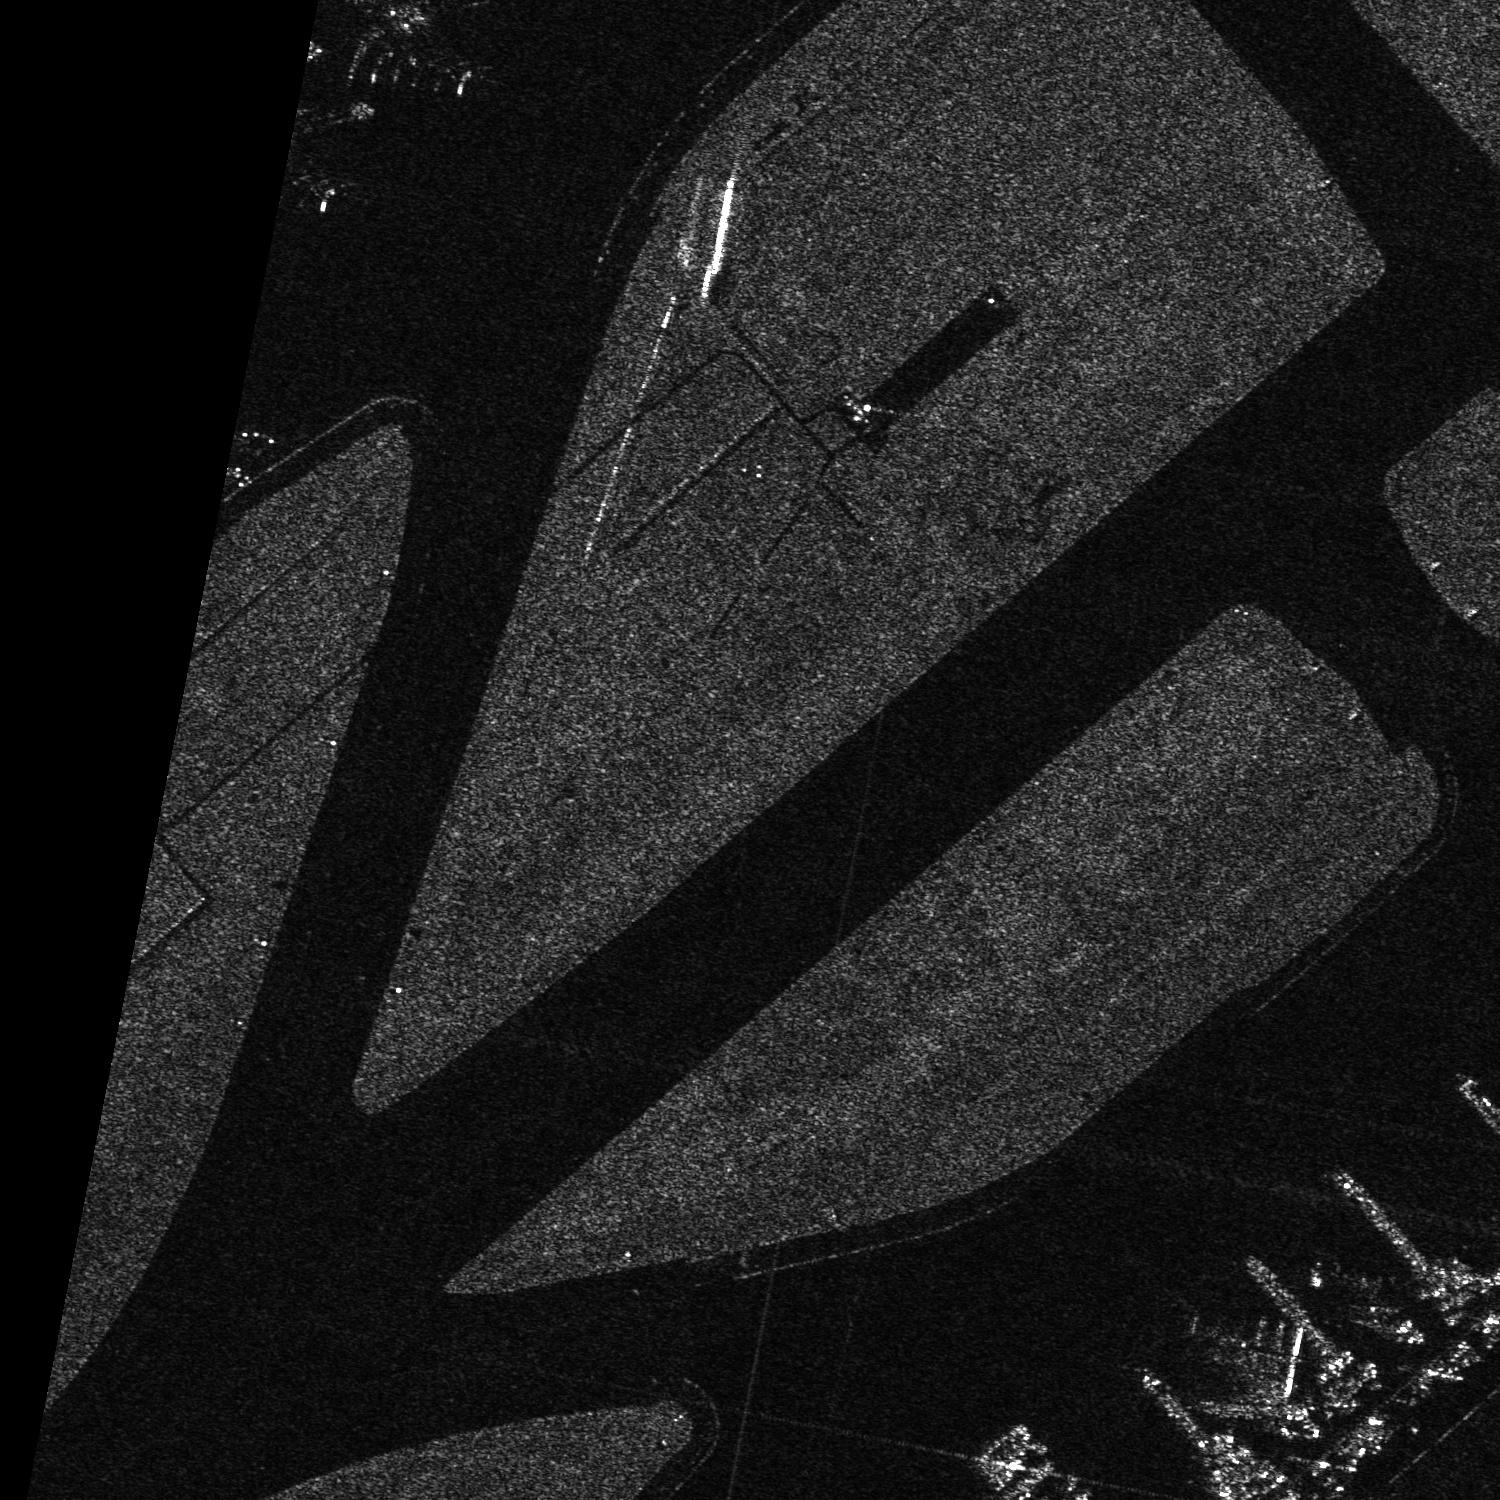Boeing787: (1185, 1313, 1299, 1415), (1317, 1254, 1424, 1339)
